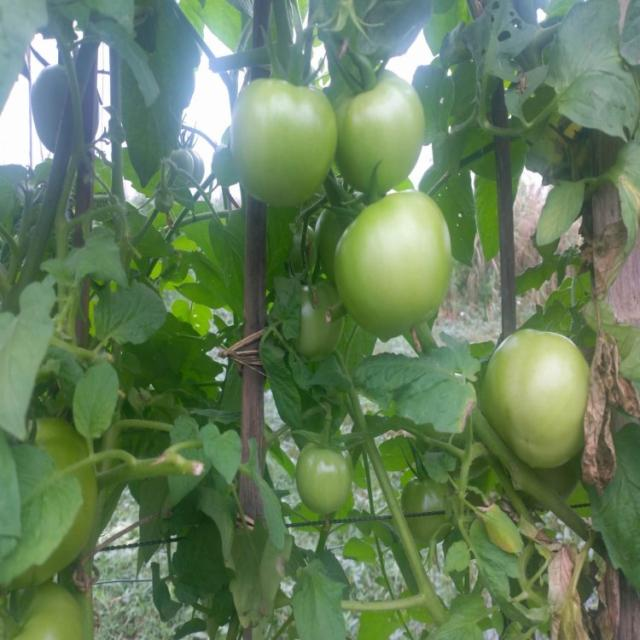tomato: (327, 189, 469, 352), (479, 319, 608, 478), (237, 75, 343, 212), (332, 65, 432, 190), (295, 449, 369, 531), (11, 580, 103, 640), (399, 478, 459, 550)
